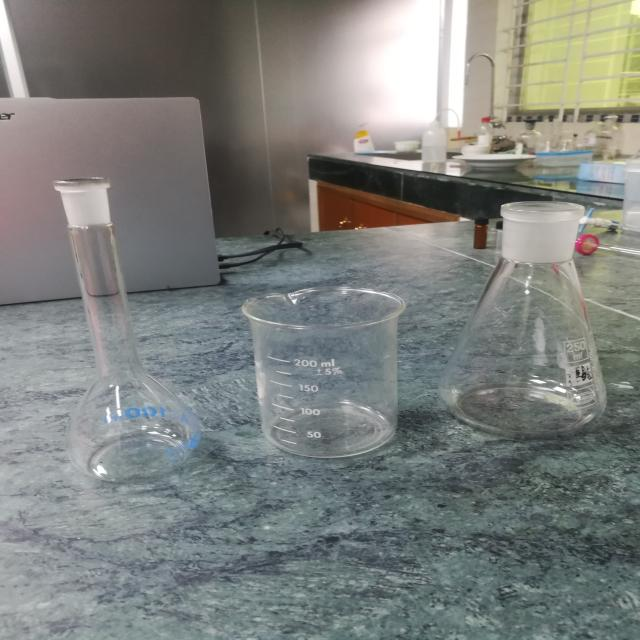Beaker: (235, 257, 428, 472)
Conical_Flask: (442, 176, 636, 448)
Volumetric_Flask: (28, 157, 227, 506)
